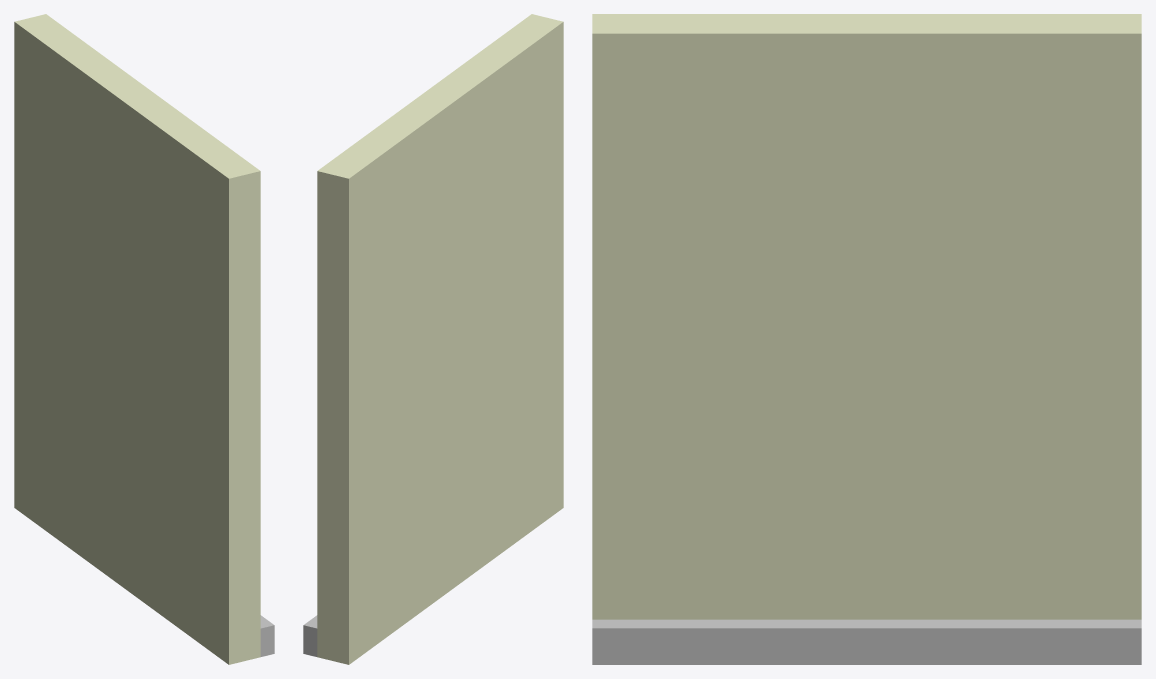
The model's file is wall.fbx.
The picture shows the model from 3 angles, left to right: view 1: azimuth 30°, elevation 25°; view 2: azimuth 150°, elevation 25°; view 3: azimuth 270°, elevation 25°; orthographic projection. The views are drawn at different scales.
Parts seen in each view (by area): view 1: Cube.020; view 2: Cube.020; view 3: Cube.020.
Boxes of the visible parts, bbox=[...] form: Cube.020: bbox=[14, 14, 274, 664]; Cube.020: bbox=[303, 14, 563, 664]; Cube.020: bbox=[592, 14, 1141, 664].
Size of the model in its own units: 49.24 by 502 by 402.
